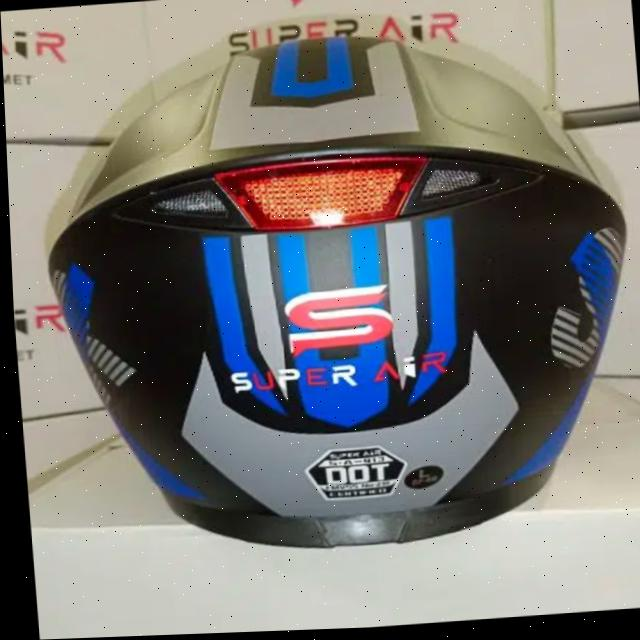Helmet: (35, 9, 640, 560)
